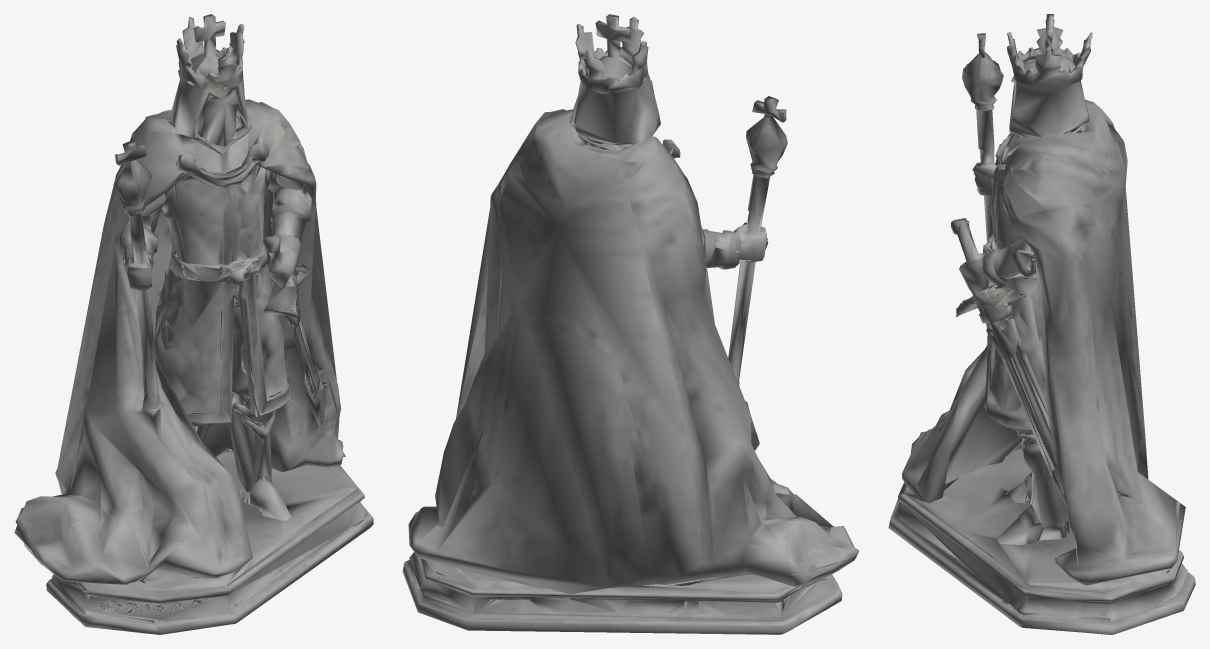
Rendered from king_low.glb.
3 views of the same model, side by side, from view 1: azimuth 30°, elevation 25°; view 2: azimuth 150°, elevation 25°; view 3: azimuth 270°, elevation 25° (orthographic). The views are drawn at different scales.
Parts seen in each view (by area): view 1: geometry_0; view 2: geometry_0; view 3: geometry_0.
Part boxes in pixels (x1,y1,x2,y2): geometry_0: (14,14,373,634); geometry_0: (402,14,859,634); geometry_0: (888,14,1195,634).
Bounding box in the file's own units: 0.7035 × 0.9951 × 0.5129.
Materials: 1 (1 with a texture image).
